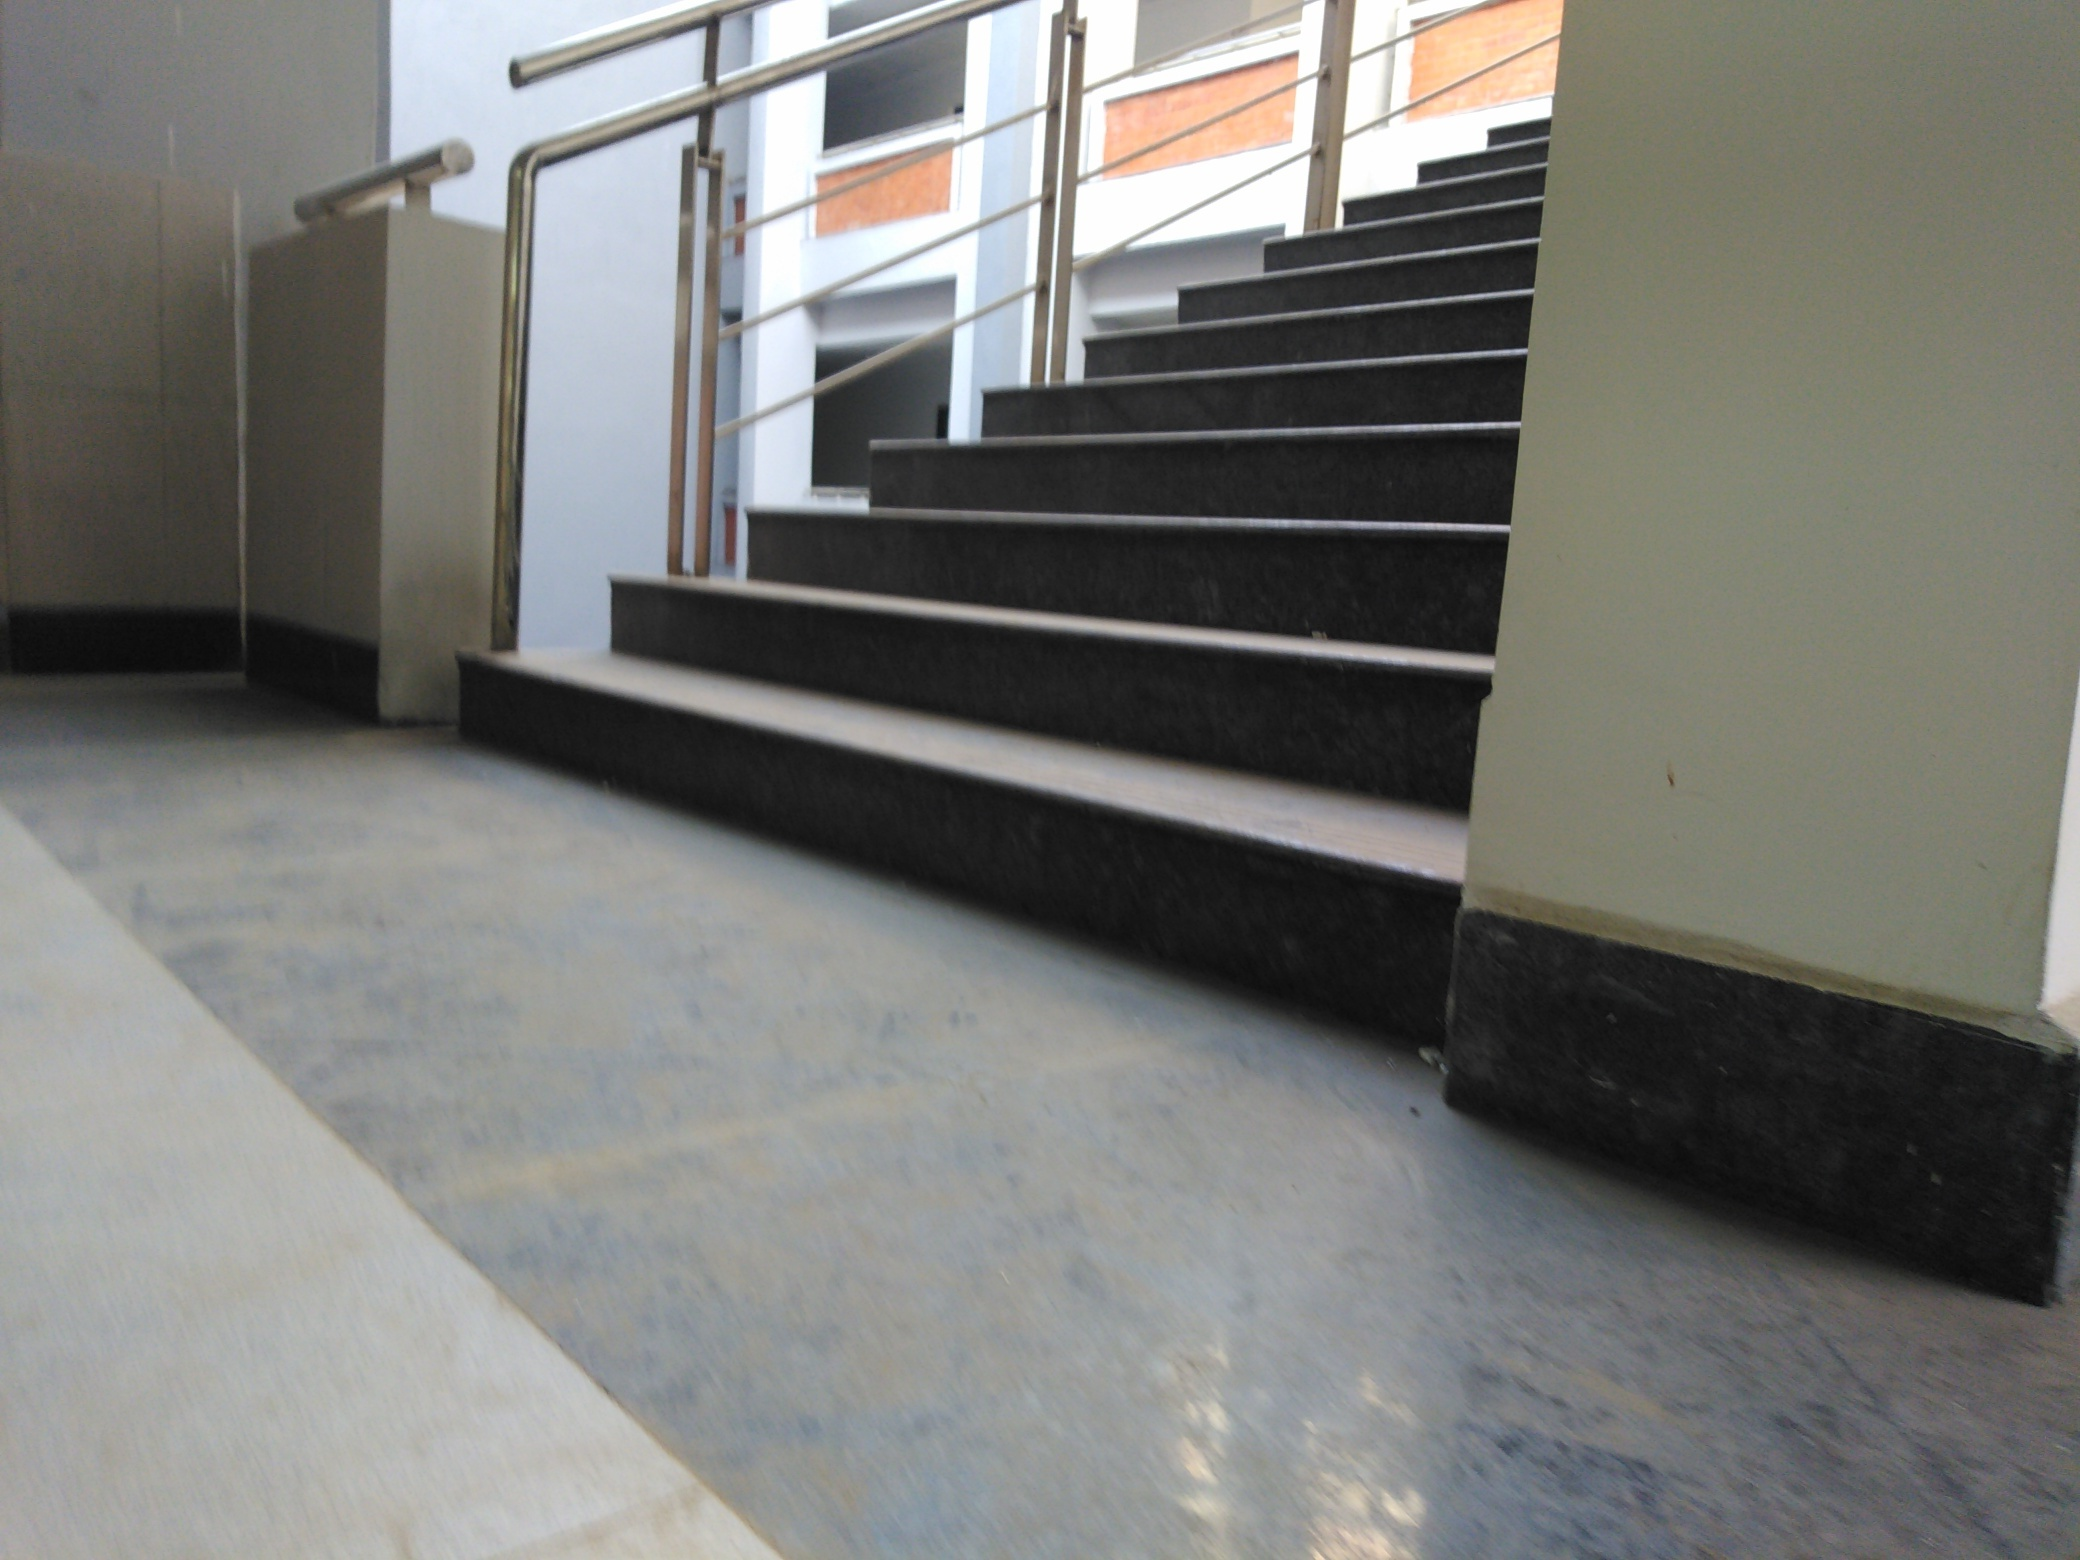stairs_up: (365, 144, 1530, 991)
